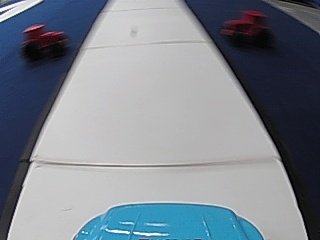tractor: (20, 21, 68, 61), (219, 8, 267, 47)
